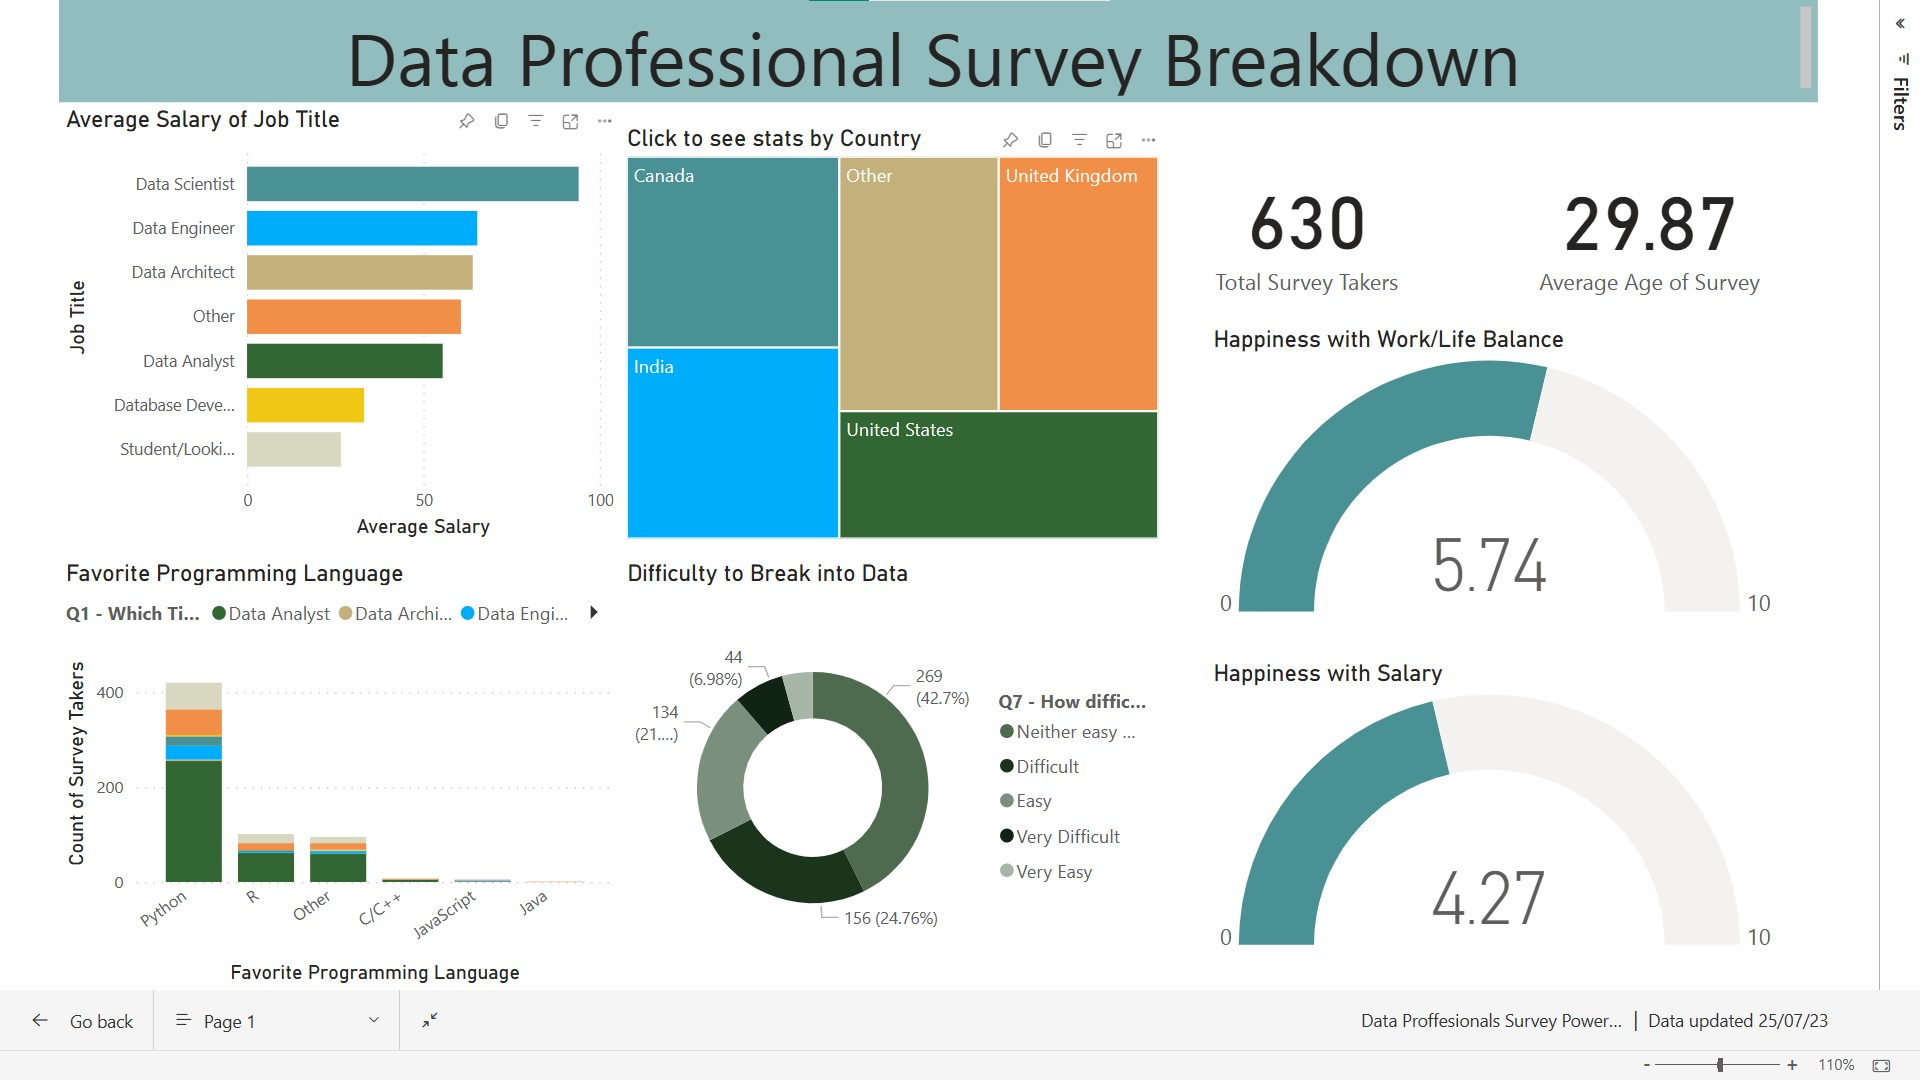

This screenshot's page, from the dashboard's own definition file:
{"tool":"powerbi","page":{"name":"Page 1","canvas":[1280,720],"ordinal":0},"visuals":[{"type":"textbox","box":[0,0,1279.6,74.8],"z":0},{"type":"card","fields":{"Values":["CountNonNull(Data Professional Survey.Unique ID)"]},"box":[782.7,76,249.6,179.7],"z":1},{"type":"card","fields":{"Values":["Avg(Data Professional Survey.Q10 - Current Age)"]},"box":[1032.8,76.2,248,180],"z":2},{"type":"barChart","title":"Average Salary of Job Title","fields":{"Category":["Data Professional Survey.Q1 - Which Title Best Fits your Current Role?.1"],"Y":["Avg(Data Professional Survey.Average Salary)"],"Series":["Data Professional Survey.Q1 - Which Title Best Fits your Current Role?.1"]},"box":[0,76.6,407.9,319.5],"z":3},{"type":"columnChart","title":"Favorite Programming Language","fields":{"Category":["Data Professional Survey.Q5 - Favorite Programming Language.1"],"Y":["CountNonNull(Data Professional Survey.Unique ID)"],"Series":["Data Professional Survey.Q1 - Which Title Best Fits your Current Role?.1"]},"box":[0,406,408,314],"z":4},{"type":"treemap","title":"Click to see stats by Country","fields":{"Group":["Data Professional Survey.Q11 - Which Country do you live in?.1"],"Values":["Count(Data Professional Survey.Q11 - Which Country do you live in?.1)"]},"box":[407.9,89.8,396,306.3],"z":5},{"type":"gauge","title":"Happiness with Work/Life Balance","fields":{"Y":["Avg(Data Professional Survey.Q6 - How Happy are you in your Current Position with the following? (Work/Life Balance))"],"MinValue":["Min(Data Professional Survey.Q6 - How Happy are you in your Current Position with the following? (Work/Life Balance))"],"MaxValue":["Max(Data Professional Survey.Q6 - How Happy are you in your Current Position with the following? (Work/Life Balance))"]},"box":[834.3,236.3,420,220],"z":6},{"type":"gauge","title":"Happiness with Salary","fields":{"Y":["Avg(Data Professional Survey.Q6 - How Happy are you in your Current Position with the following? (Salary))"],"MinValue":["Min(Data Professional Survey.Q6 - How Happy are you in your Current Position with the following? (Salary))"],"MaxValue":["Max(Data Professional Survey.Q6 - How Happy are you in your Current Position with the following? (Salary))1"]},"box":[834.3,479.2,419.8,220.5],"z":7},{"type":"donutChart","title":"Difficulty to Break into Data","fields":{"Y":["CountNonNull(Data Professional Survey.Q7 - How difficult was it for you to break into Data?)"],"Category":["Data Professional Survey.Q7 - How difficult was it for you to break into Data?"]},"box":[408,406,396,314],"z":8}]}

Visuals, with their boxes on the page's 1280x720 design canvas (x1, y1, x2, y2). These are canvas units, not pixel positions in the 1920x1080 screenshot, which may show the page scaled, cropped or inside an application window:
textbox: [0, 0, 1280, 75]
card - CountNonNull(Data Professional Survey.Unique ID): [783, 76, 1032, 256]
card - Avg(Data Professional Survey.Q10 - Current Age): [1033, 76, 1281, 256]
"Average Salary of Job Title" barChart: [0, 77, 408, 396]
"Favorite Programming Language" columnChart: [0, 406, 408, 720]
"Click to see stats by Country" treemap: [408, 90, 804, 396]
"Happiness with Work/Life Balance" gauge: [834, 236, 1254, 456]
"Happiness with Salary" gauge: [834, 479, 1254, 700]
"Difficulty to Break into Data" donutChart: [408, 406, 804, 720]
